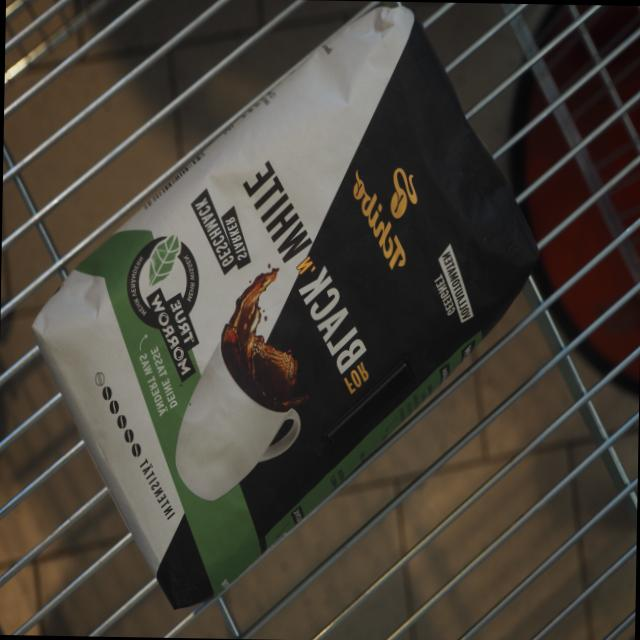BW Bohne: (17, 0, 551, 623)
